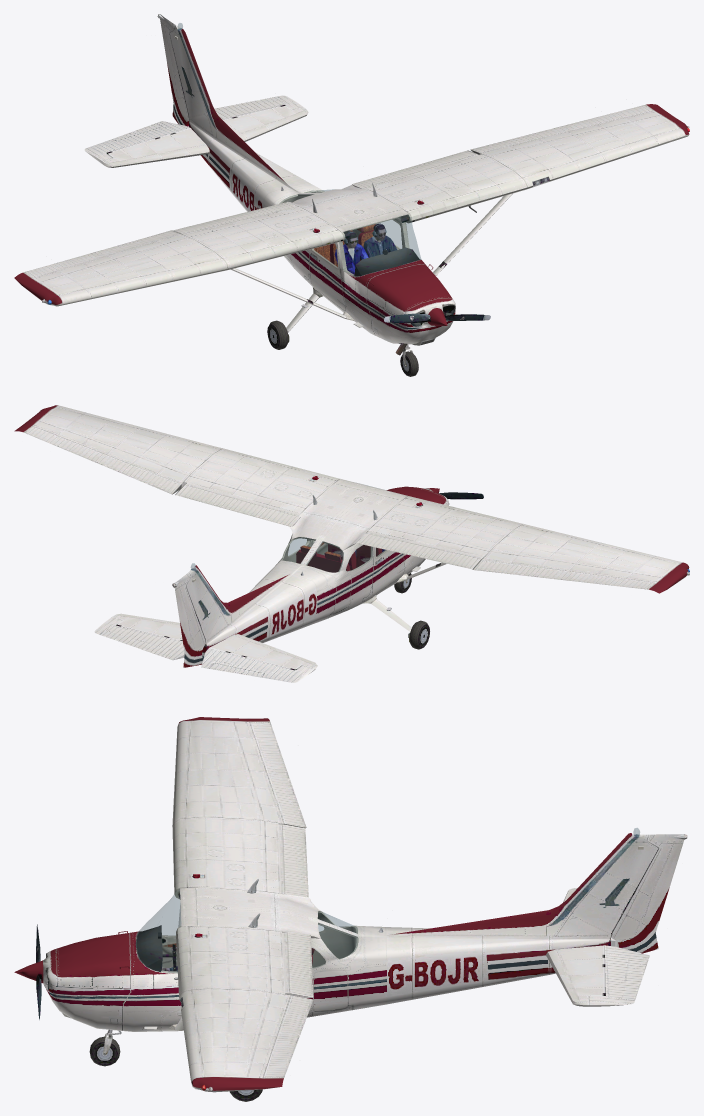
3 views of the same model, one above another, from view 1: azimuth 30°, elevation 25°; view 2: azimuth 150°, elevation 25°; view 3: azimuth 270°, elevation 25° (orthographic). The views are drawn at different scales.
Visible parts, largest first — view 1: Mesh_2; view 2: Mesh_2; view 3: Mesh_2.
Boxes of the visible parts, x1,y1,x2,y2 form: Mesh_2: (14, 14, 689, 376); Mesh_2: (14, 405, 689, 682); Mesh_2: (14, 717, 687, 1101).
Bounding box in the file's own units: 1112 × 313 × 828.
3 materials, 1 textured.
